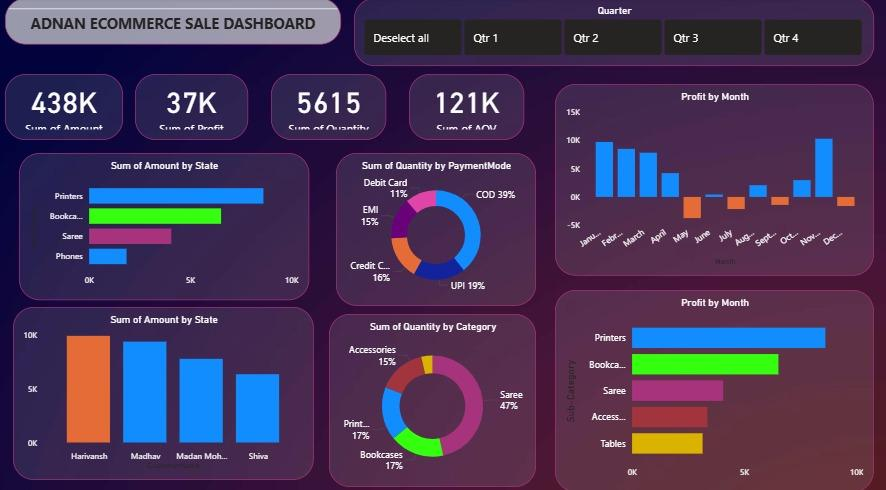

Layout of this report page (visuals, bound fields, positions):
{"tool":"powerbi","page":{"name":"Store","canvas":[1280,720],"ordinal":0},"visuals":[{"type":"textbox","box":[10.1,0,483.8,67.2],"z":0},{"type":"clusteredColumnChart","title":"Profit by Month","fields":{"Category":["Orders.Order Date.Variation.Date Hierarchy.Month"],"Y":["Sum(Details.Profit)"]},"box":[802.1,123.8,459.4,276.5],"z":1000},{"type":"barChart","title":"Profit by Month","fields":{"Y":["Sum(Details.Profit)"],"Category":["Details.Sub-Category"]},"box":[802.1,420.5,459.4,290.9],"z":2000},{"type":"donutChart","title":"Sum of Quantity by Category","fields":{"Category":["Details.Sub-Category"],"Y":["Sum(Details.Quantity)"]},"box":[476.6,455,298.1,249.1],"z":3000},{"type":"donutChart","title":"Sum of Quantity by PaymentMode","fields":{"Y":["Sum(Details.Quantity)"],"Category":["Details.PaymentMode"]},"box":[486.7,223.2,288,220.3],"z":4000},{"type":"card","fields":{"Values":["Sum(Details.Amount)"]},"box":[10.1,109.4,169.9,95],"z":5000},{"type":"card","fields":{"Values":["Sum(Details.Profit)"]},"box":[197.3,109.4,162.7,95],"z":6000},{"type":"card","fields":{"Values":["Sum(Details.Quantity)"]},"box":[393.1,109.4,165.6,95],"z":7000},{"type":"card","fields":{"Values":["Sum(Details.AOV)"]},"box":[591.8,109.4,165.6,95],"z":8000},{"type":"barChart","title":"Sum of Amount by State","fields":{"Y":["Sum(Details.Profit)"],"Category":["Details.Sub-Category"]},"box":[30.2,223.2,417.6,211.7],"z":9000},{"type":"columnChart","title":"Sum of Amount by State","fields":{"Category":["Orders.CustomerName"],"Y":["Sum(Details.Amount)"]},"box":[21.6,445,433.4,249.1],"z":10000},{"type":"advancedSlicerVisual","fields":{"Values":["Orders.Order Date.Variation.Date Hierarchy.Quarter"]},"box":[512.6,0,748.8,97.9],"z":11000}]}

Visuals, with their boxes in screenshot pixels (x1, y1, x2, y2), scaled from the page's 1280x720 canvas onto the 886x490 screenshot:
textbox: rect(7, 0, 342, 46)
"Profit by Month" clusteredColumnChart: rect(555, 84, 873, 272)
"Profit by Month" barChart: rect(555, 286, 873, 484)
"Sum of Quantity by Category" donutChart: rect(330, 310, 536, 479)
"Sum of Quantity by PaymentMode" donutChart: rect(337, 152, 536, 302)
card - Sum(Details.Amount): rect(7, 74, 125, 139)
card - Sum(Details.Profit): rect(137, 74, 249, 139)
card - Sum(Details.Quantity): rect(272, 74, 387, 139)
card - Sum(Details.AOV): rect(410, 74, 524, 139)
"Sum of Amount by State" barChart: rect(21, 152, 310, 296)
"Sum of Amount by State" columnChart: rect(15, 303, 315, 472)
advancedSlicerVisual - Orders.Order Date.Variation.Date Hierarchy.Quarter: rect(355, 0, 873, 67)
